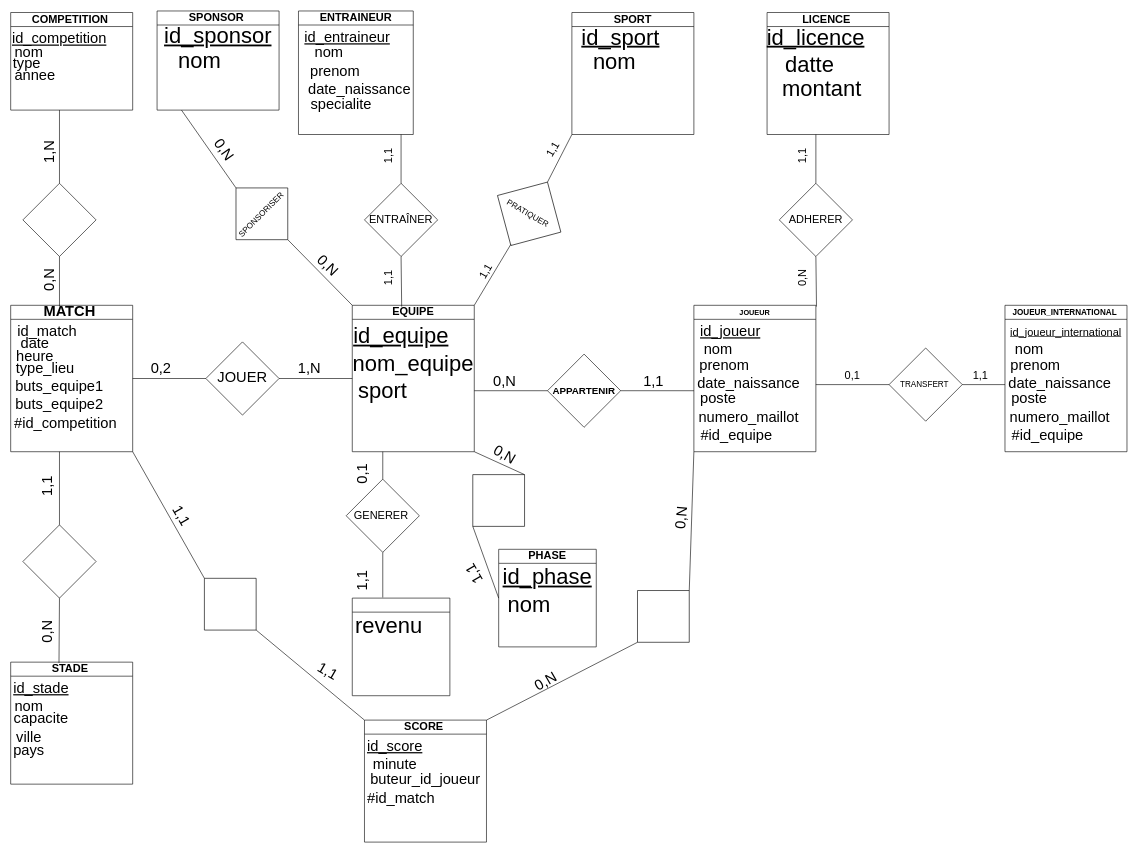
Some shapes in this 1138 by 853 pixel diagram are drawn without their labels. Here are the shapes that lost their labels. From the top down, the box of each, then its label:
(22, 183, 96, 257): COMPORTER
(446, 448, 551, 552): TIRAGE
(22, 524, 96, 598): SE_DEROULER
(178, 552, 282, 656): AVOIR_LIEU
(611, 564, 715, 668): MARQUER
(352, 597, 450, 696): REVENUS_MATCH
